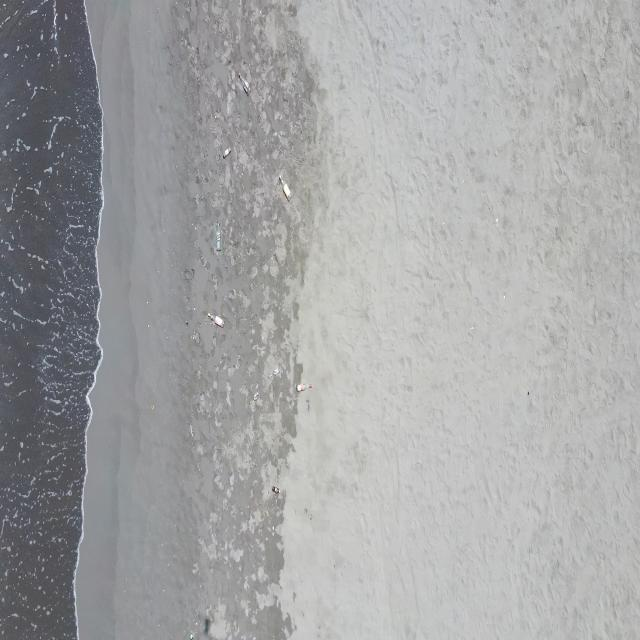glass: (279, 175, 292, 201), (238, 72, 251, 95), (208, 312, 224, 328), (216, 221, 222, 252), (269, 367, 281, 378), (296, 384, 312, 392), (223, 146, 231, 160), (272, 486, 281, 494), (253, 391, 259, 402), (190, 633, 193, 640)
